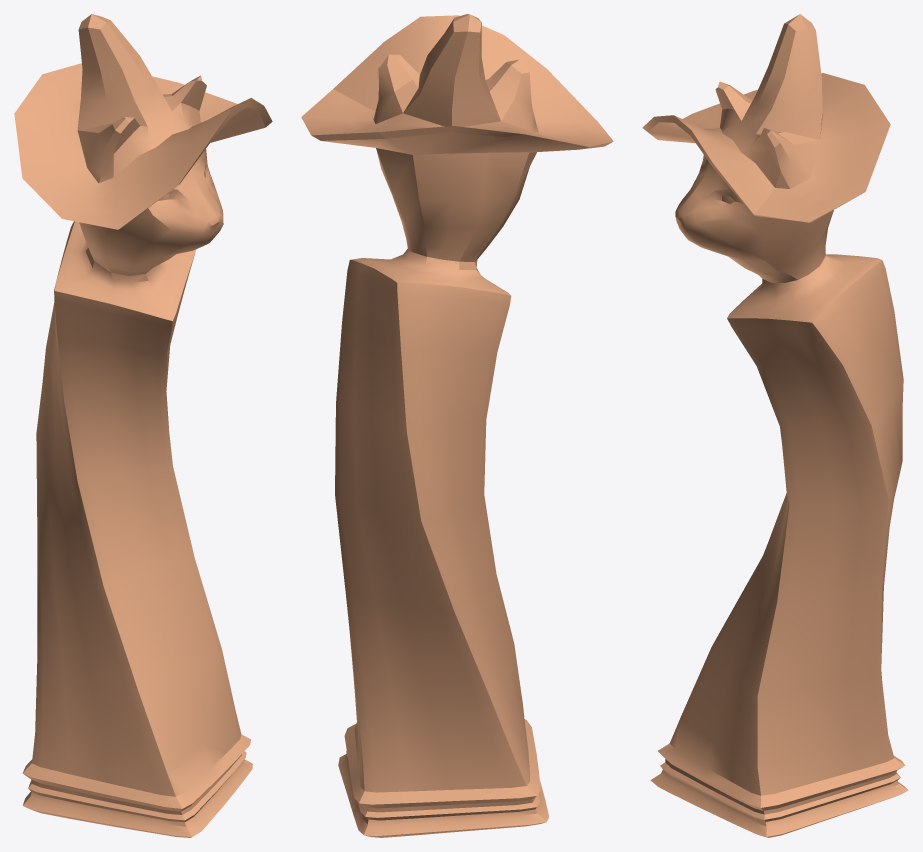
Rendered from Gato.fbx.
The picture shows the model from 3 angles, left to right: view 1: azimuth 30°, elevation 25°; view 2: azimuth 150°, elevation 25°; view 3: azimuth 270°, elevation 25°; orthographic projection. The views are drawn at different scales.
Parts seen in each view (by area): view 1: Gato.001; view 2: Gato.001; view 3: Gato.001.
Part boxes in pixels (x1=…): Gato.001: x1=14, y1=14, x2=272, y2=837; Gato.001: x1=301, y1=14, x2=613, y2=837; Gato.001: x1=642, y1=14, x2=908, y2=837.
Size of the model in its own units: 97.26 by 287 by 90.85.
